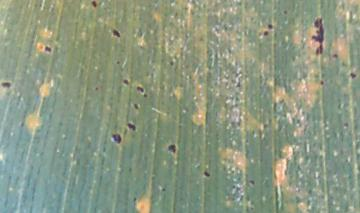tarspot: (311, 15, 325, 55), (111, 27, 121, 38), (112, 133, 122, 144), (167, 143, 177, 153), (127, 122, 136, 131), (202, 168, 210, 178), (1, 81, 12, 88), (44, 45, 52, 54), (92, 84, 100, 92), (122, 77, 130, 85), (349, 71, 357, 79), (168, 58, 175, 67), (137, 84, 144, 93), (337, 103, 343, 113), (19, 120, 26, 128), (342, 120, 349, 128), (248, 179, 257, 185), (262, 29, 269, 36), (281, 8, 288, 15), (92, 1, 98, 9), (134, 102, 140, 110), (116, 58, 122, 65), (266, 23, 273, 29), (319, 79, 325, 86), (132, 196, 138, 202), (332, 53, 338, 59), (162, 186, 166, 193), (143, 93, 148, 98)
